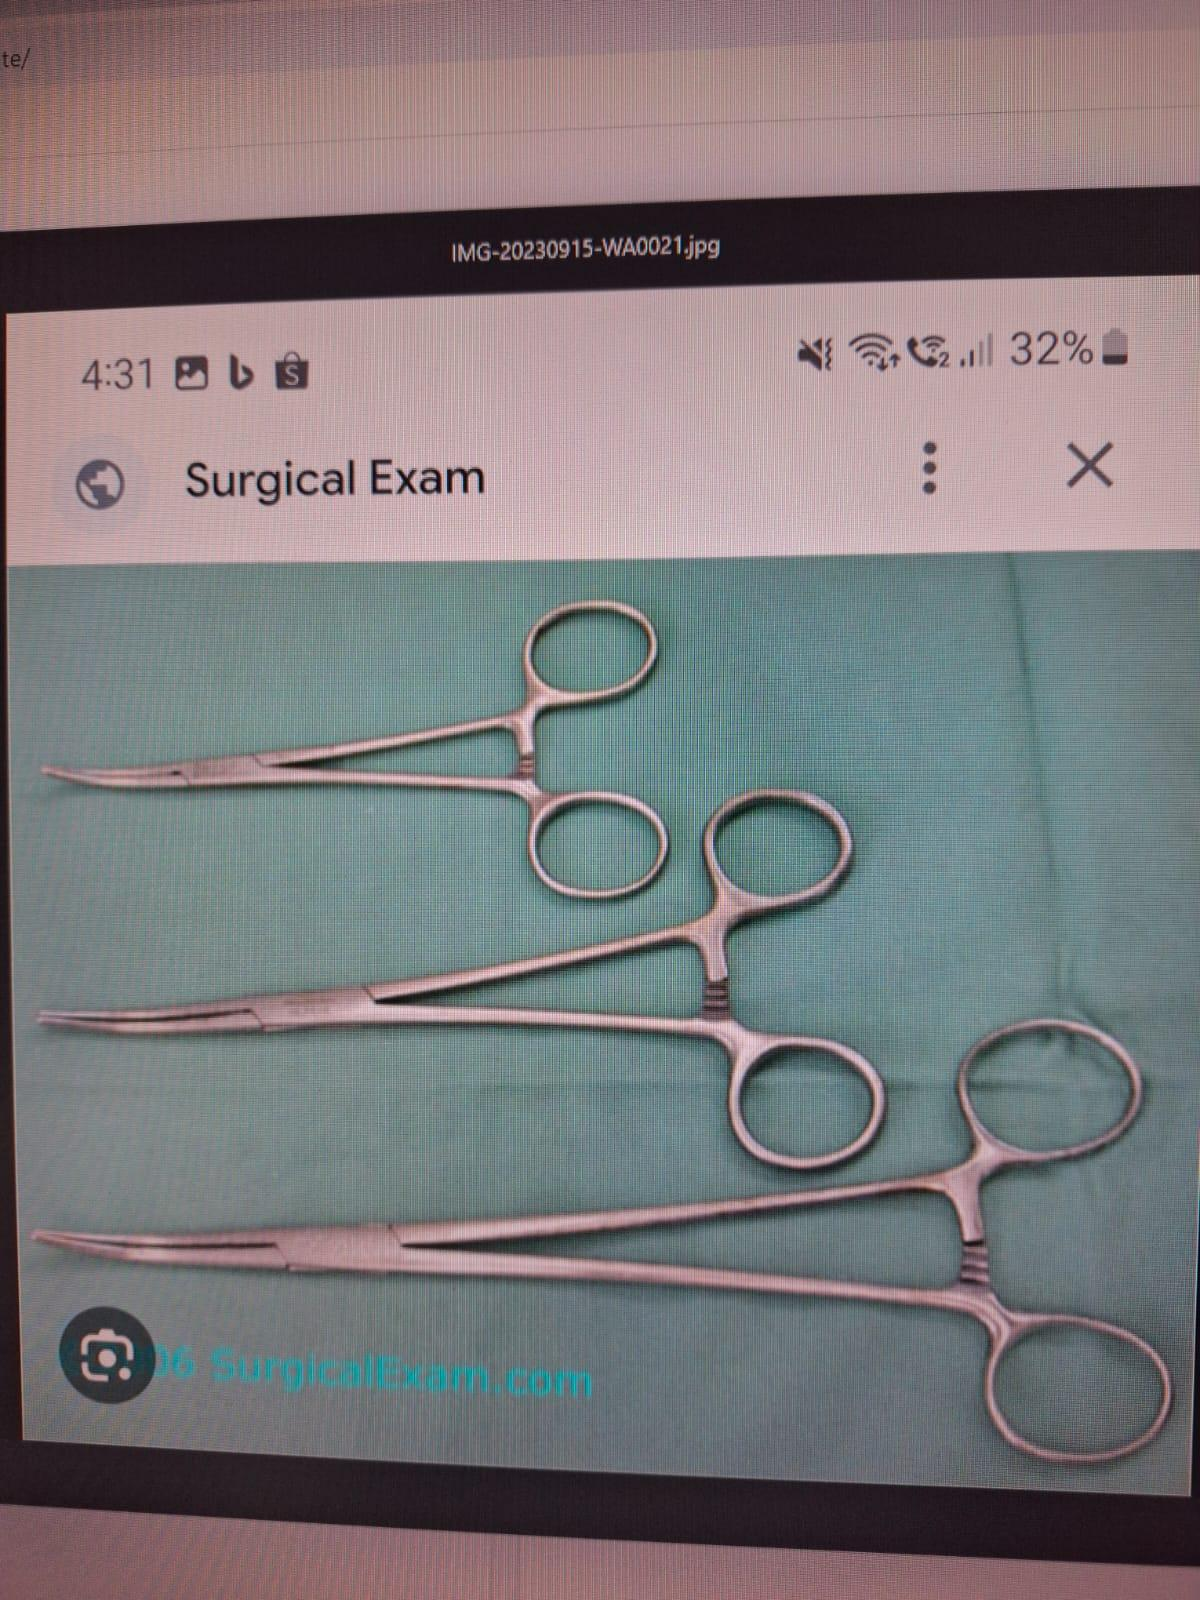Artery Forceps: (18, 1015, 1190, 1460), (20, 782, 905, 1188), (28, 580, 682, 922)
